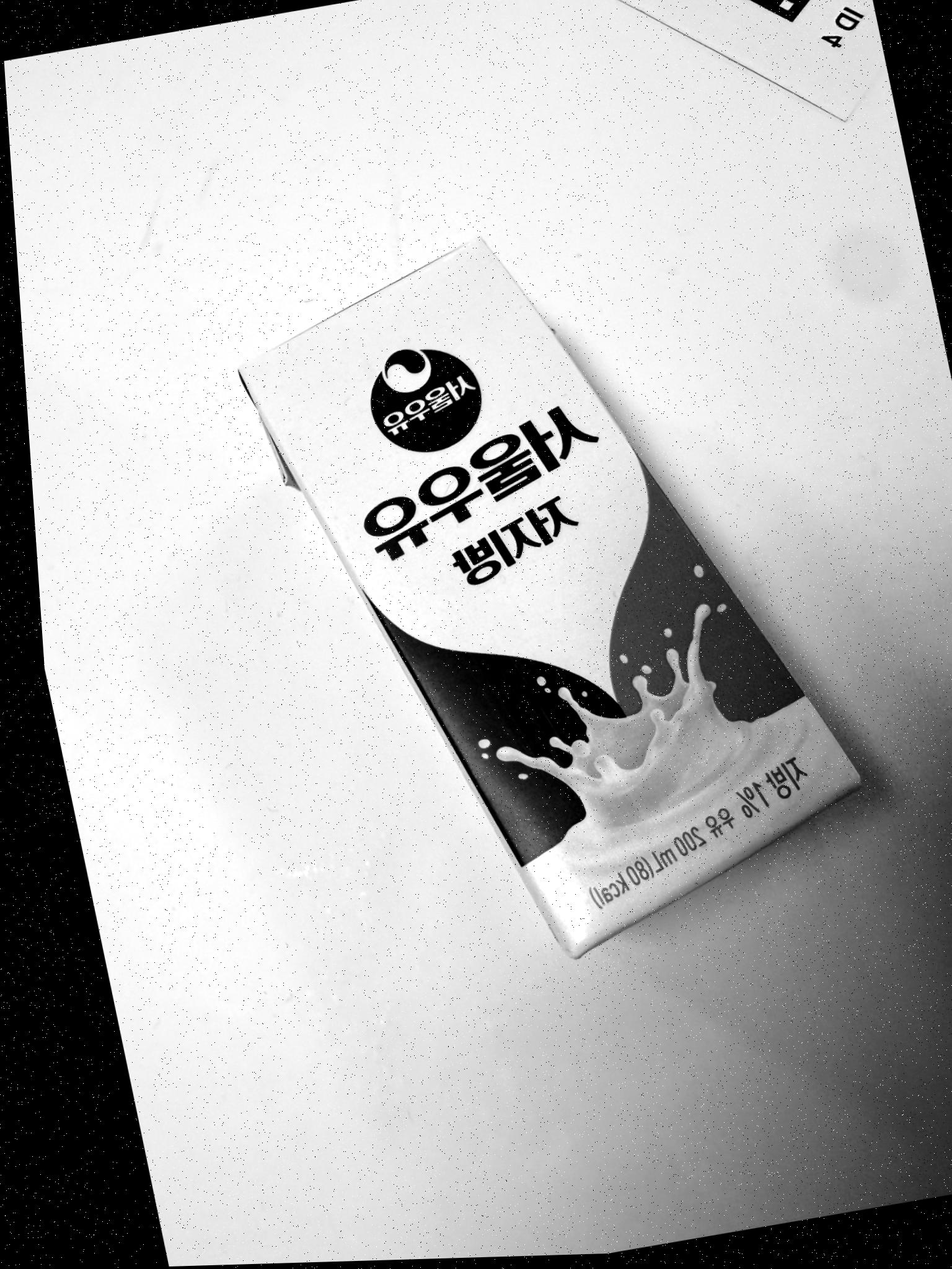milk_blue: (240, 242, 859, 957)
